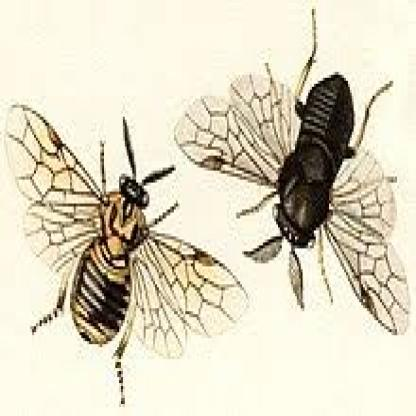sawfly: (171, 6, 414, 345), (0, 95, 252, 414)
